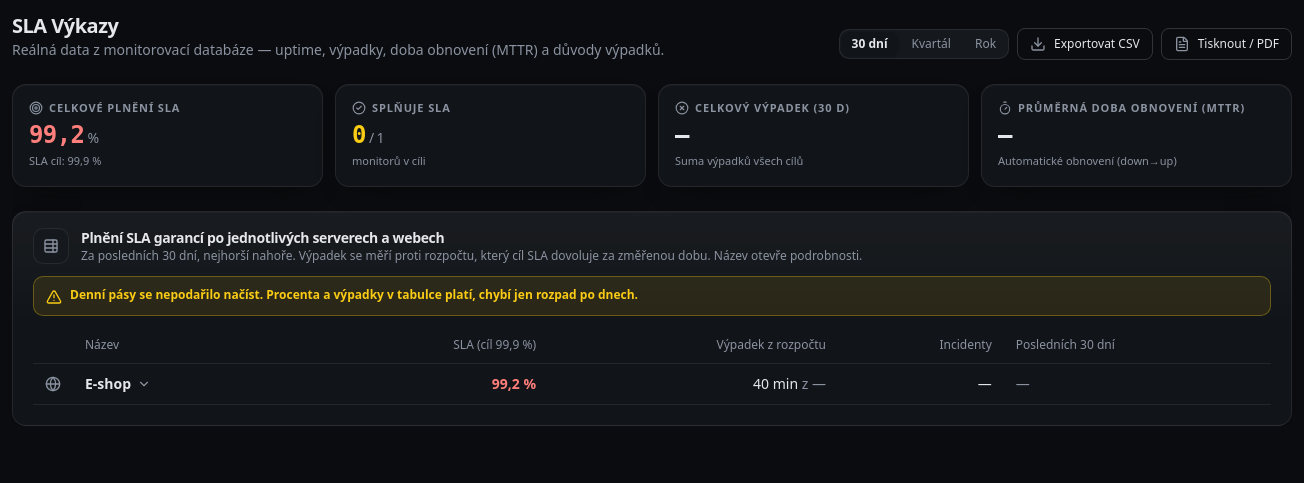
Výkazy: rok a kvartál říkají, od kdy mají data (W1-B2) › 30 dní je pokrytých bez poznámky; Rok ukáže „Rok (data od 12. 8.)“
Expected: the text "E-shop" is shown, [85,374,131,394]
Click the button "Rok" at {"x": 985, "y": 44}, box [965,32,1006,56]
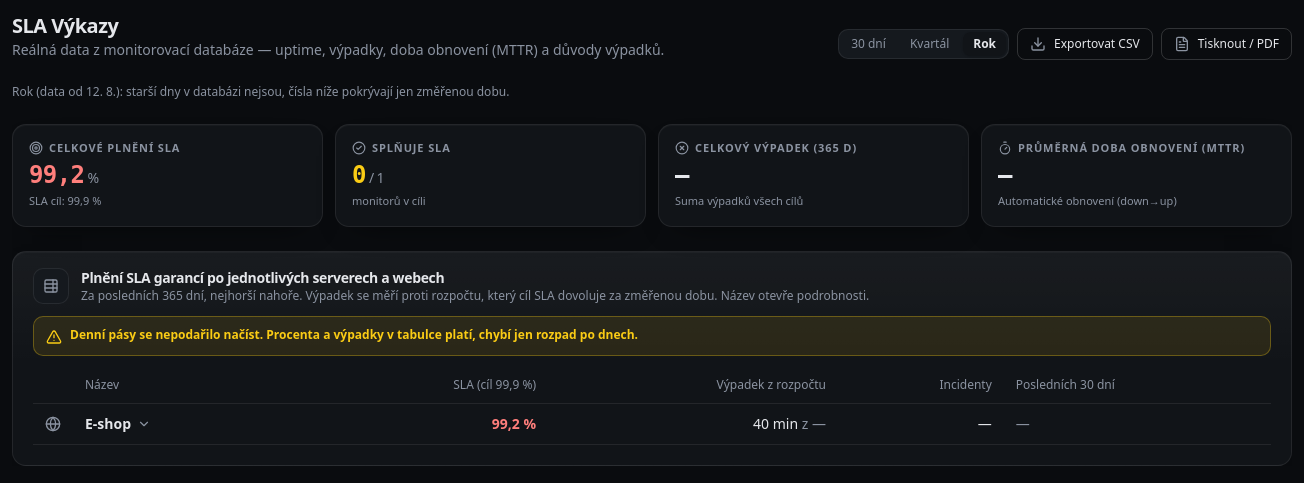
Expected: the text with test id "reports-coverage" shows "Rok (data od 12. 8.)", [12,83,509,100]
